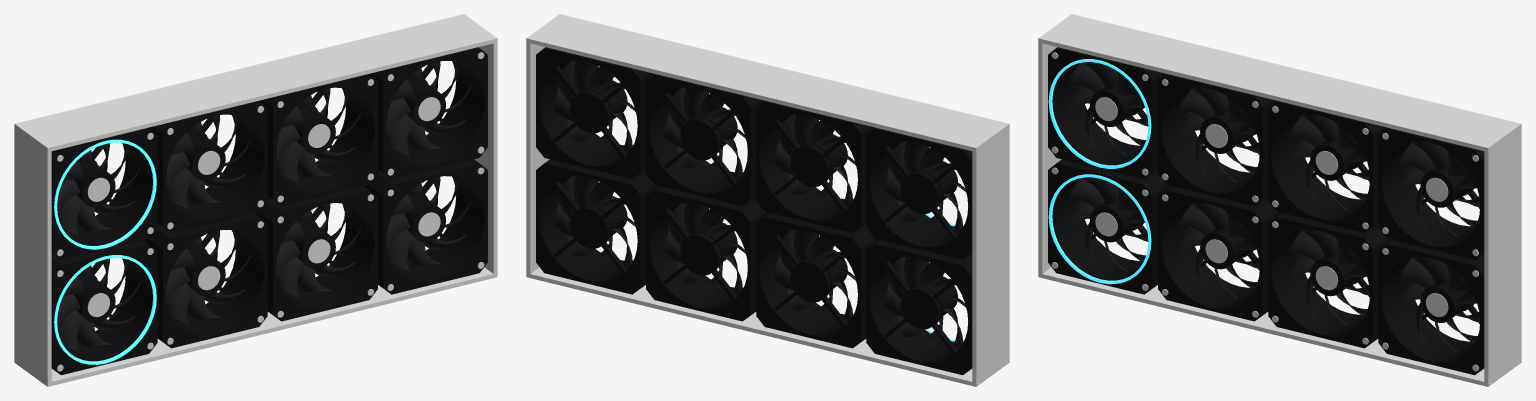
Rendered from hw_cool_fanwall_8x.glb.
3 renders of one model, left to right at view 1: azimuth 30°, elevation 25°; view 2: azimuth 150°, elevation 25°; view 3: azimuth 330°, elevation 25°, orthographic.
Visible parts, largest first — view 1: Body, Rotor_Z_6, Rotor_Z_5, Rotor_Z_1, Rotor_Z_2, Rotor_Z_3, Rotor_Z_7, Rotor_Z_4, Rotor_Z_0; view 2: Body, Rotor_Z_3, Rotor_Z_2, Rotor_Z_1, Rotor_Z_7, Rotor_Z_0, Rotor_Z_4, Rotor_Z_5, Rotor_Z_6; view 3: Body, Rotor_Z_7, Rotor_Z_2, Rotor_Z_6, Rotor_Z_1, Rotor_Z_3, Rotor_Z_5, Rotor_Z_0, Rotor_Z_4.
Part boxes in pixels (box(x1,y1,x2,y2)): Body: box(14, 14, 497, 386); Rotor_Z_6: box(276, 88, 361, 183); Rotor_Z_5: box(166, 115, 251, 209); Rotor_Z_1: box(166, 230, 251, 325); Rotor_Z_2: box(276, 203, 361, 298); Rotor_Z_3: box(386, 177, 471, 271); Rotor_Z_7: box(386, 61, 471, 156); Rotor_Z_4: box(57, 143, 140, 236); Rotor_Z_0: box(57, 258, 140, 351); Body: box(526, 14, 1009, 386); Rotor_Z_3: box(553, 176, 635, 271); Rotor_Z_2: box(663, 203, 745, 298); Rotor_Z_1: box(773, 230, 855, 325); Rotor_Z_7: box(553, 61, 635, 155); Rotor_Z_0: box(883, 256, 966, 352); Rotor_Z_4: box(883, 141, 966, 236); Rotor_Z_5: box(773, 114, 855, 209); Rotor_Z_6: box(663, 87, 745, 183); Body: box(1038, 14, 1521, 386); Rotor_Z_7: box(1395, 141, 1480, 236); Rotor_Z_2: box(1284, 230, 1369, 325); Rotor_Z_6: box(1284, 114, 1369, 209); Rotor_Z_1: box(1174, 203, 1259, 298); Rotor_Z_3: box(1395, 256, 1480, 351); Rotor_Z_5: box(1174, 87, 1259, 183); Rotor_Z_0: box(1064, 177, 1148, 271); Rotor_Z_4: box(1064, 62, 1148, 156).
Size of the model in its own units: 0.343 by 0.174 by 0.044.
